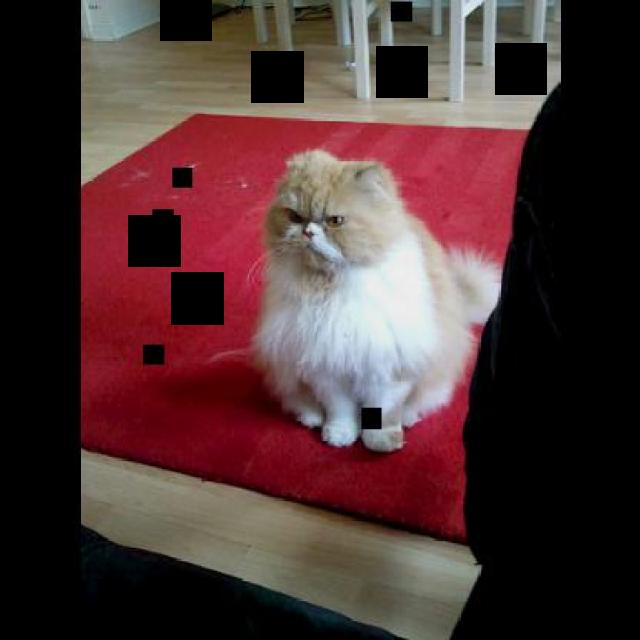unauthorized: (208, 148, 503, 452)
